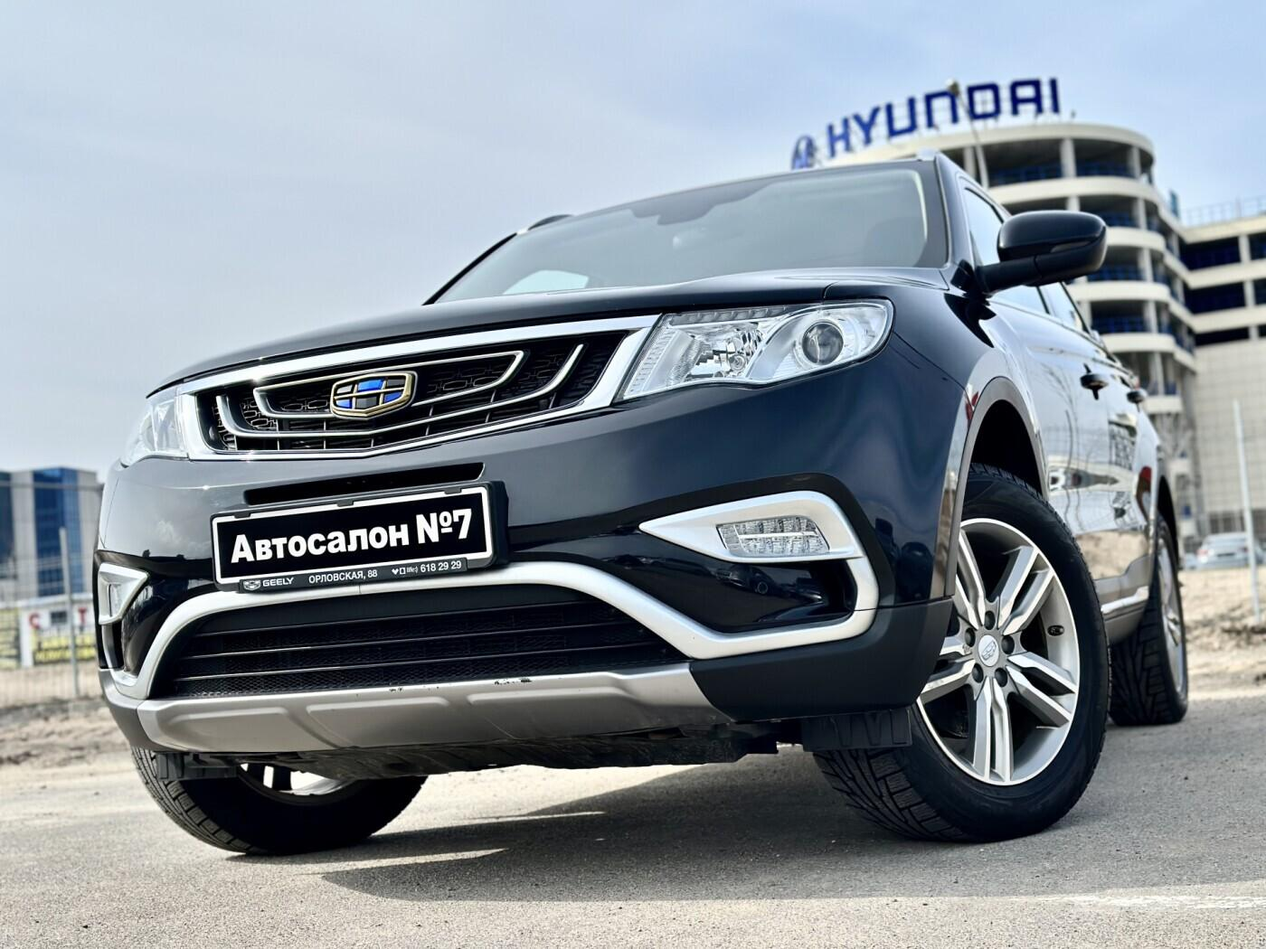Atlas_2016-2023: (68, 148, 1201, 875)
